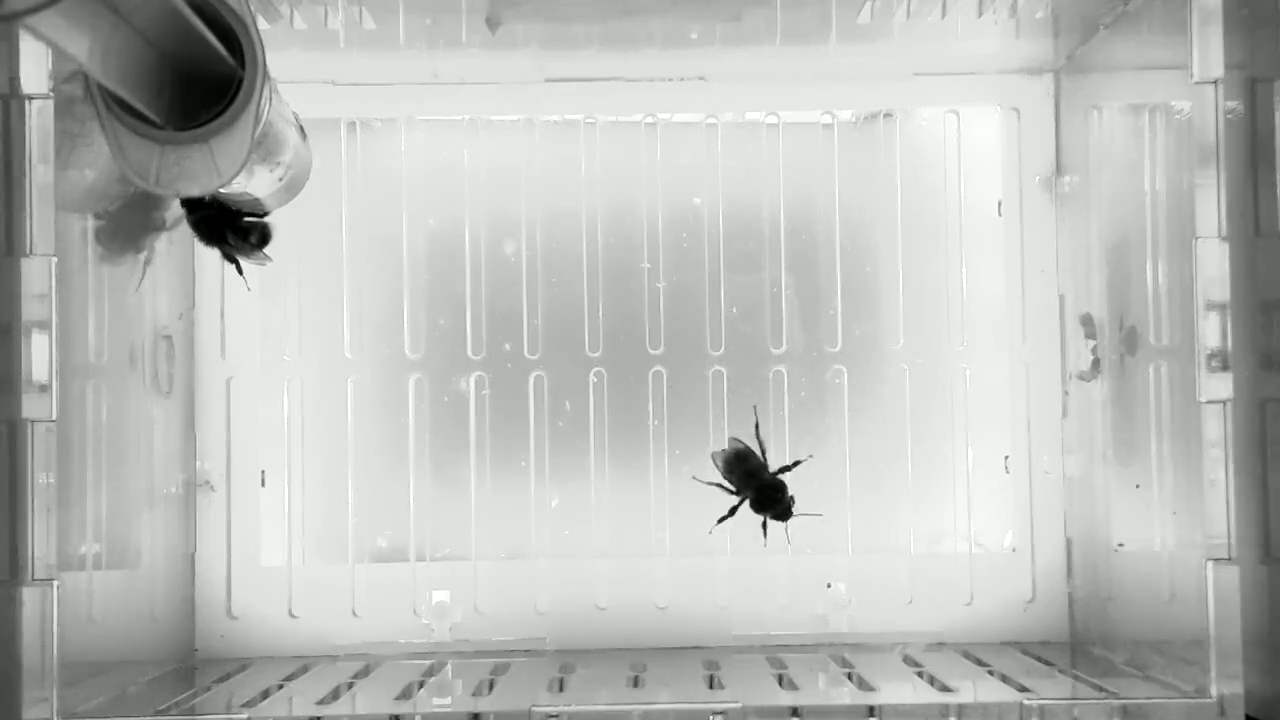bee_alive: (688, 401, 827, 550), (178, 193, 286, 294)
feeder: (199, 75, 318, 219)
